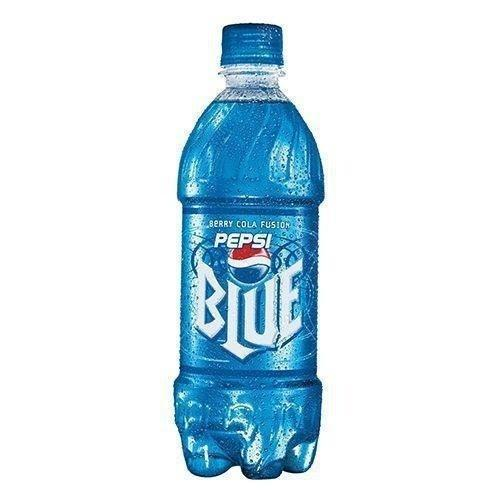bottle-plastic: (170, 18, 326, 485)
